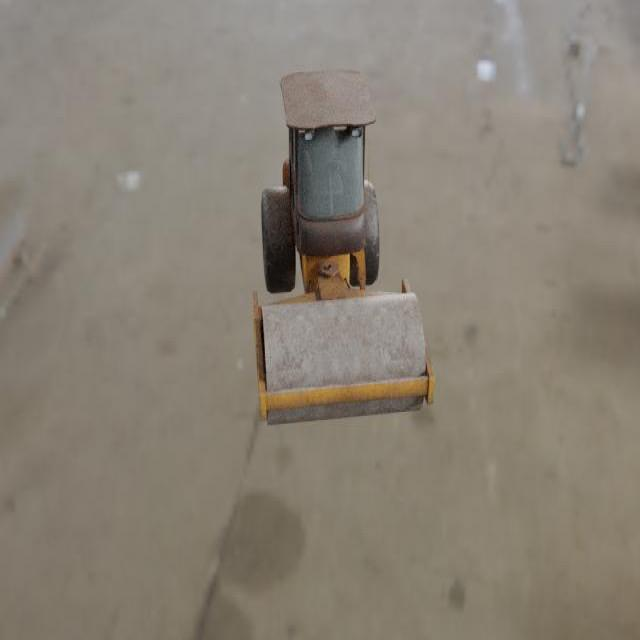Roller: (251, 68, 435, 425)
